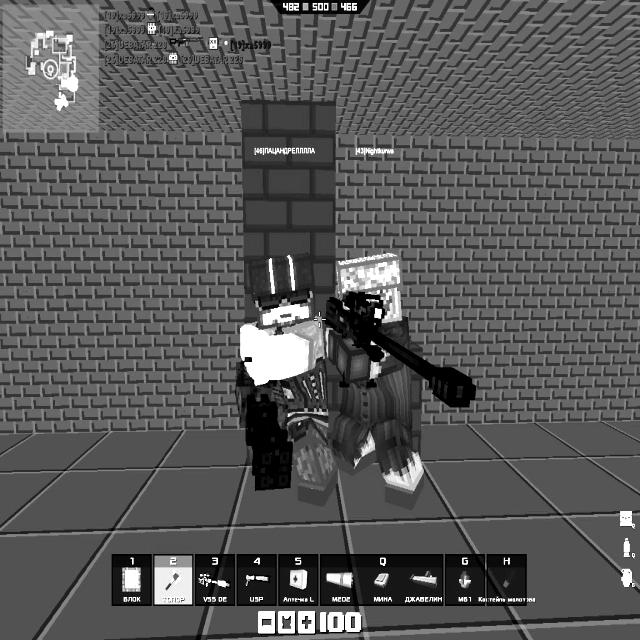Head: (245, 256, 316, 324), (334, 258, 404, 322)
Player: (234, 248, 340, 508), (330, 247, 434, 508)
